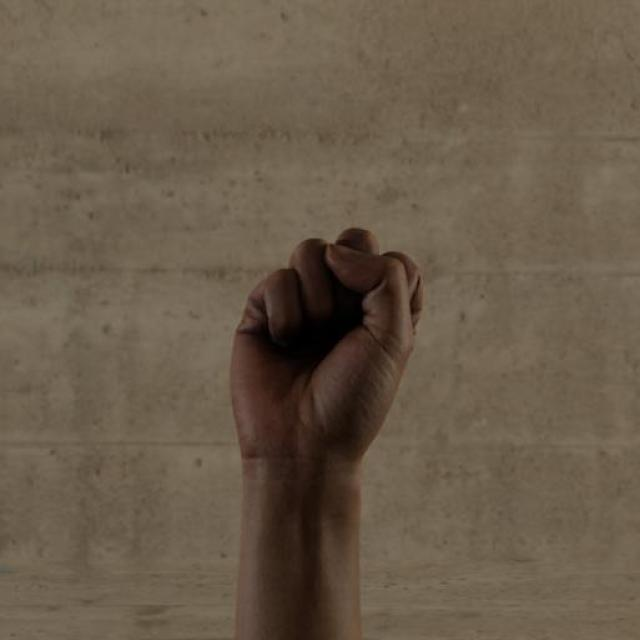S: (226, 222, 429, 468)
